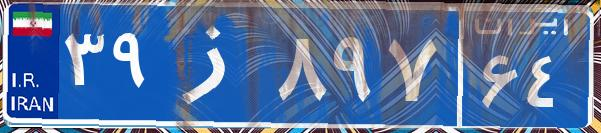3: (57, 26, 110, 107)
4: (525, 38, 570, 115)
6: (475, 38, 525, 113)
7: (385, 28, 445, 110)
8: (273, 28, 330, 110)
9: (330, 28, 385, 110), (110, 28, 158, 105)
ز: (158, 15, 273, 115)
